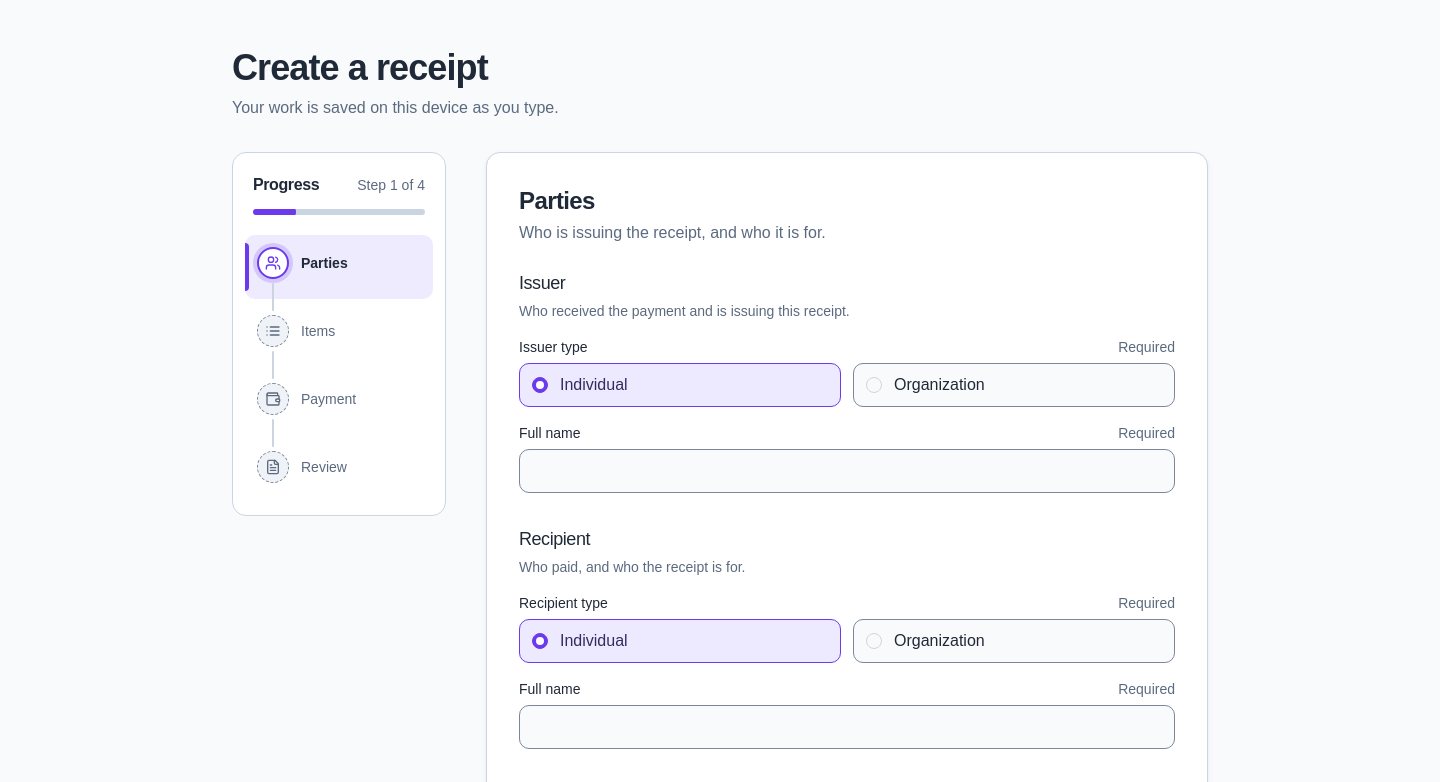
Scenario: when saving fails › stays fully usable and says "Not saved" when localStorage cannot even be reached
The image size is (1440, 782).
Type "Juan" into the field labelled "Full name" below "Issuer type" at (847, 471), box x1=519 y1=449 x2=1175 y2=493
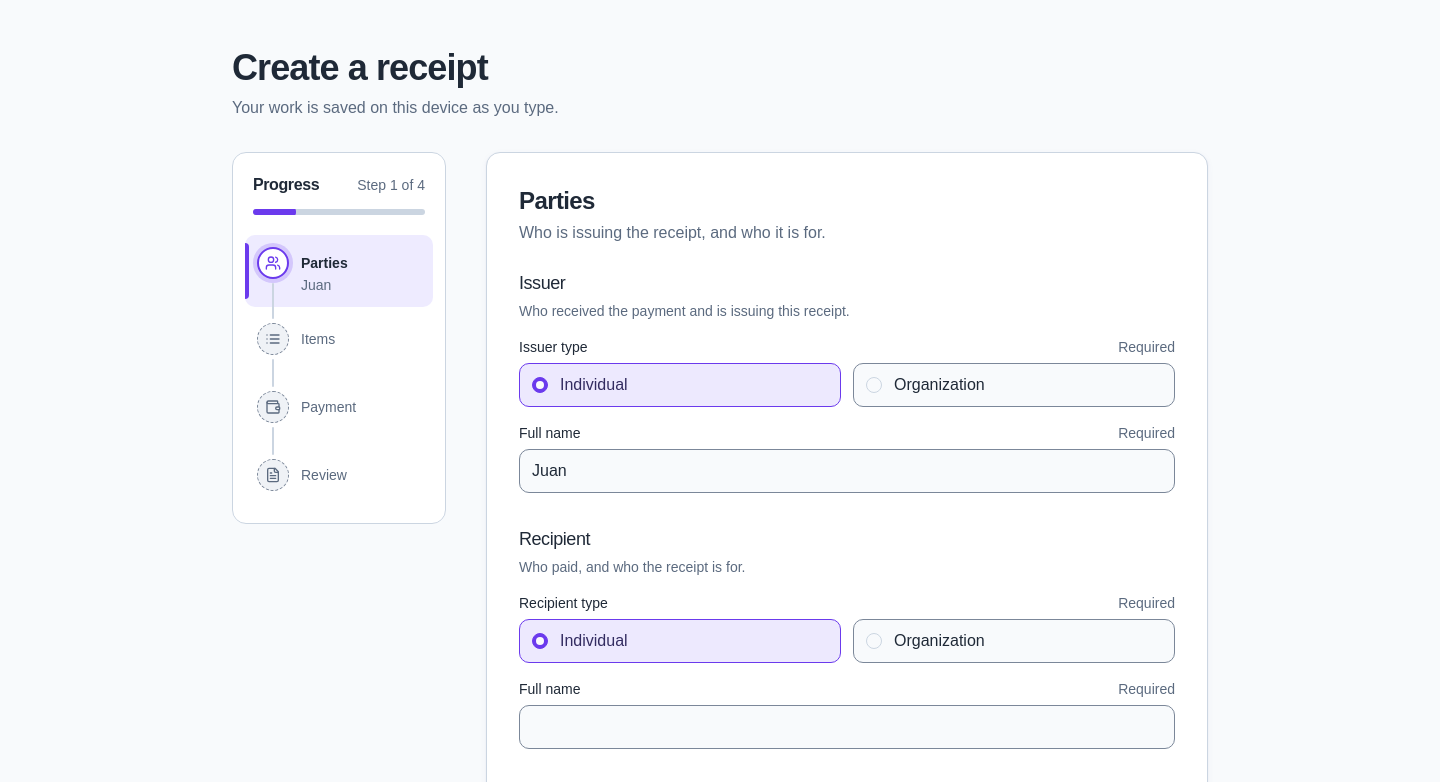
Type "Acme" into the field labelled "Full name" below "Recipient type" at (847, 727), box x1=519 y1=705 x2=1175 y2=749
Wait 500 ms
(page scrolled)
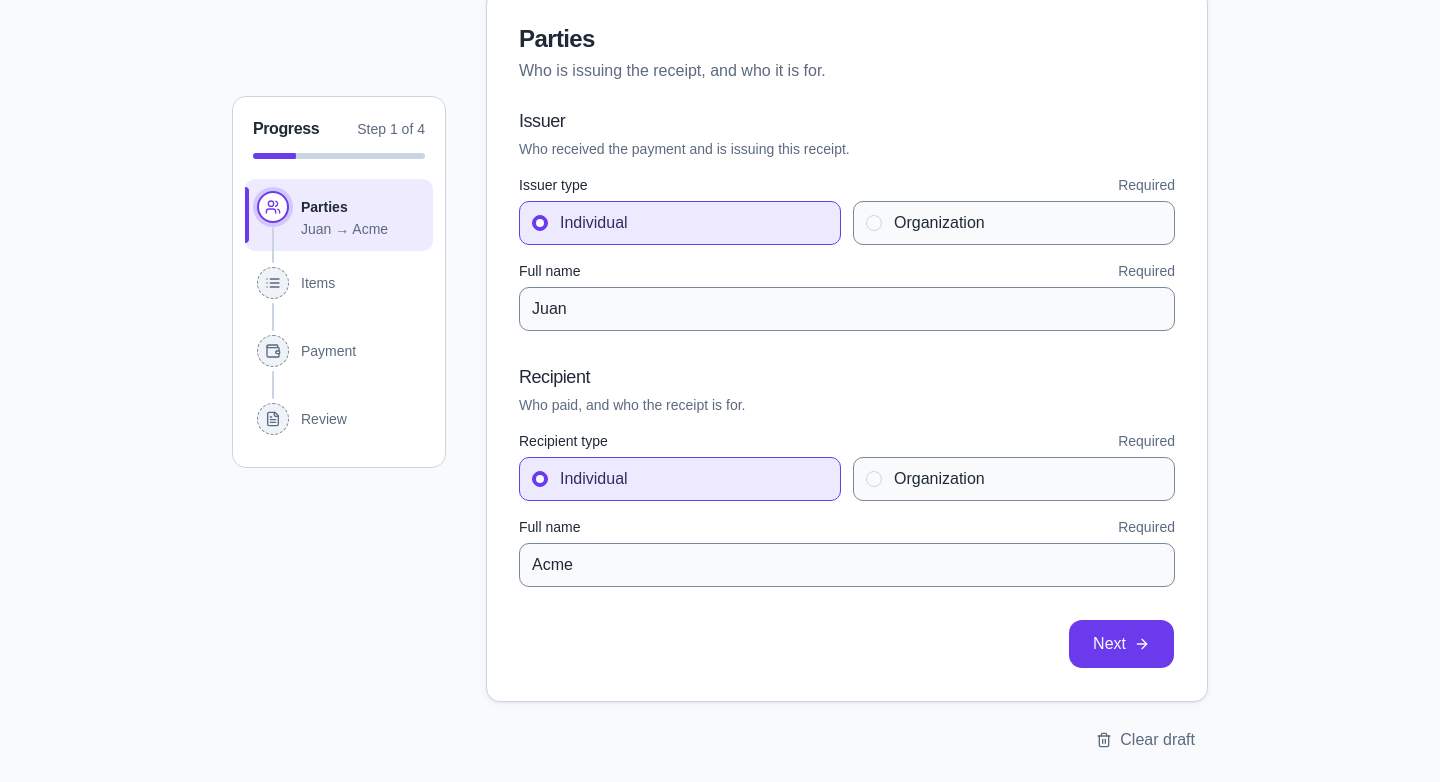
Click the button "Next" at (1122, 644), box x1=1068 y1=619 x2=1175 y2=669
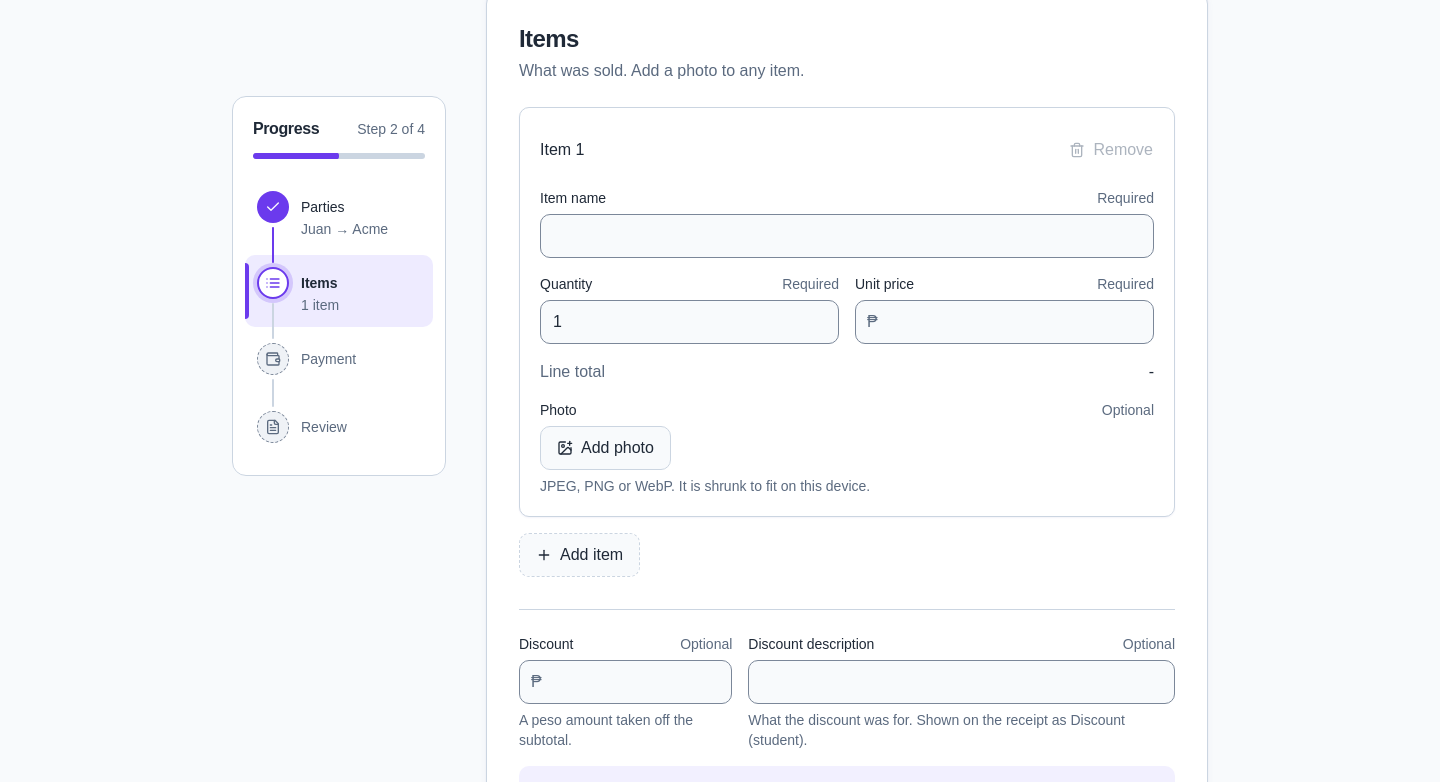
Expected: the heading "Items" is shown, x1=519 y1=25 x2=579 y2=52
